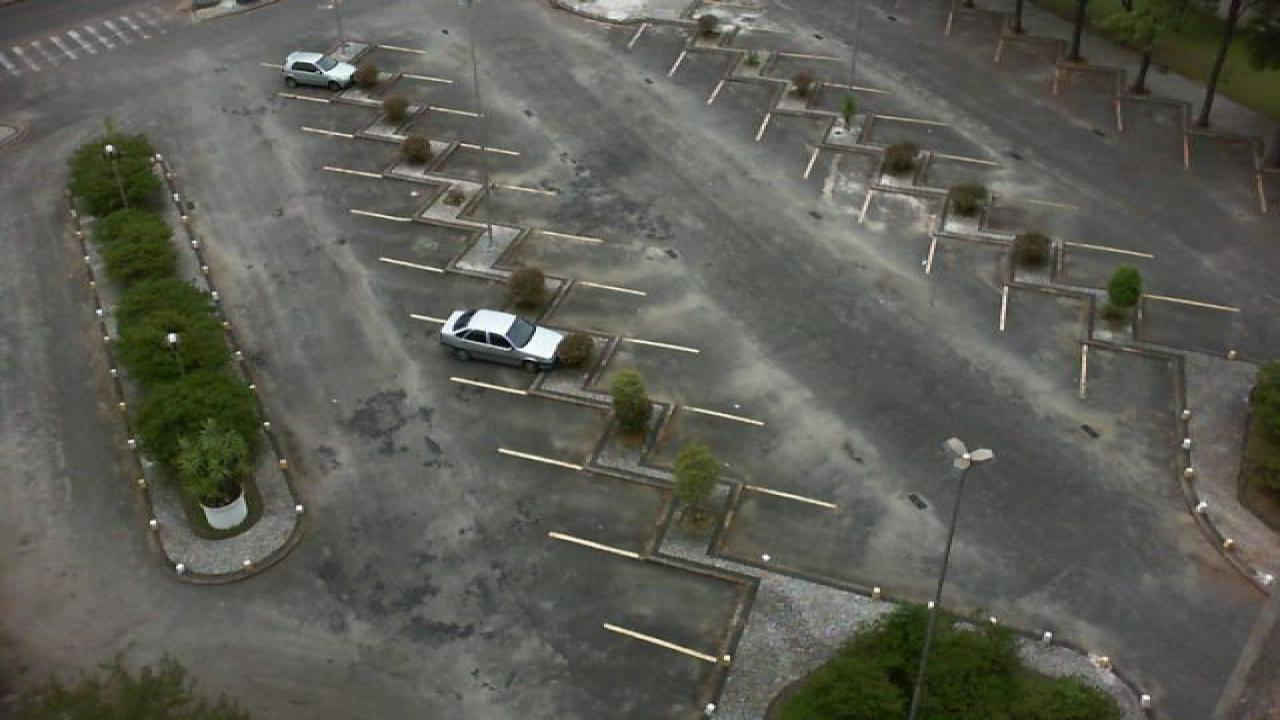Car: (438, 307, 566, 371), (282, 51, 356, 89)
